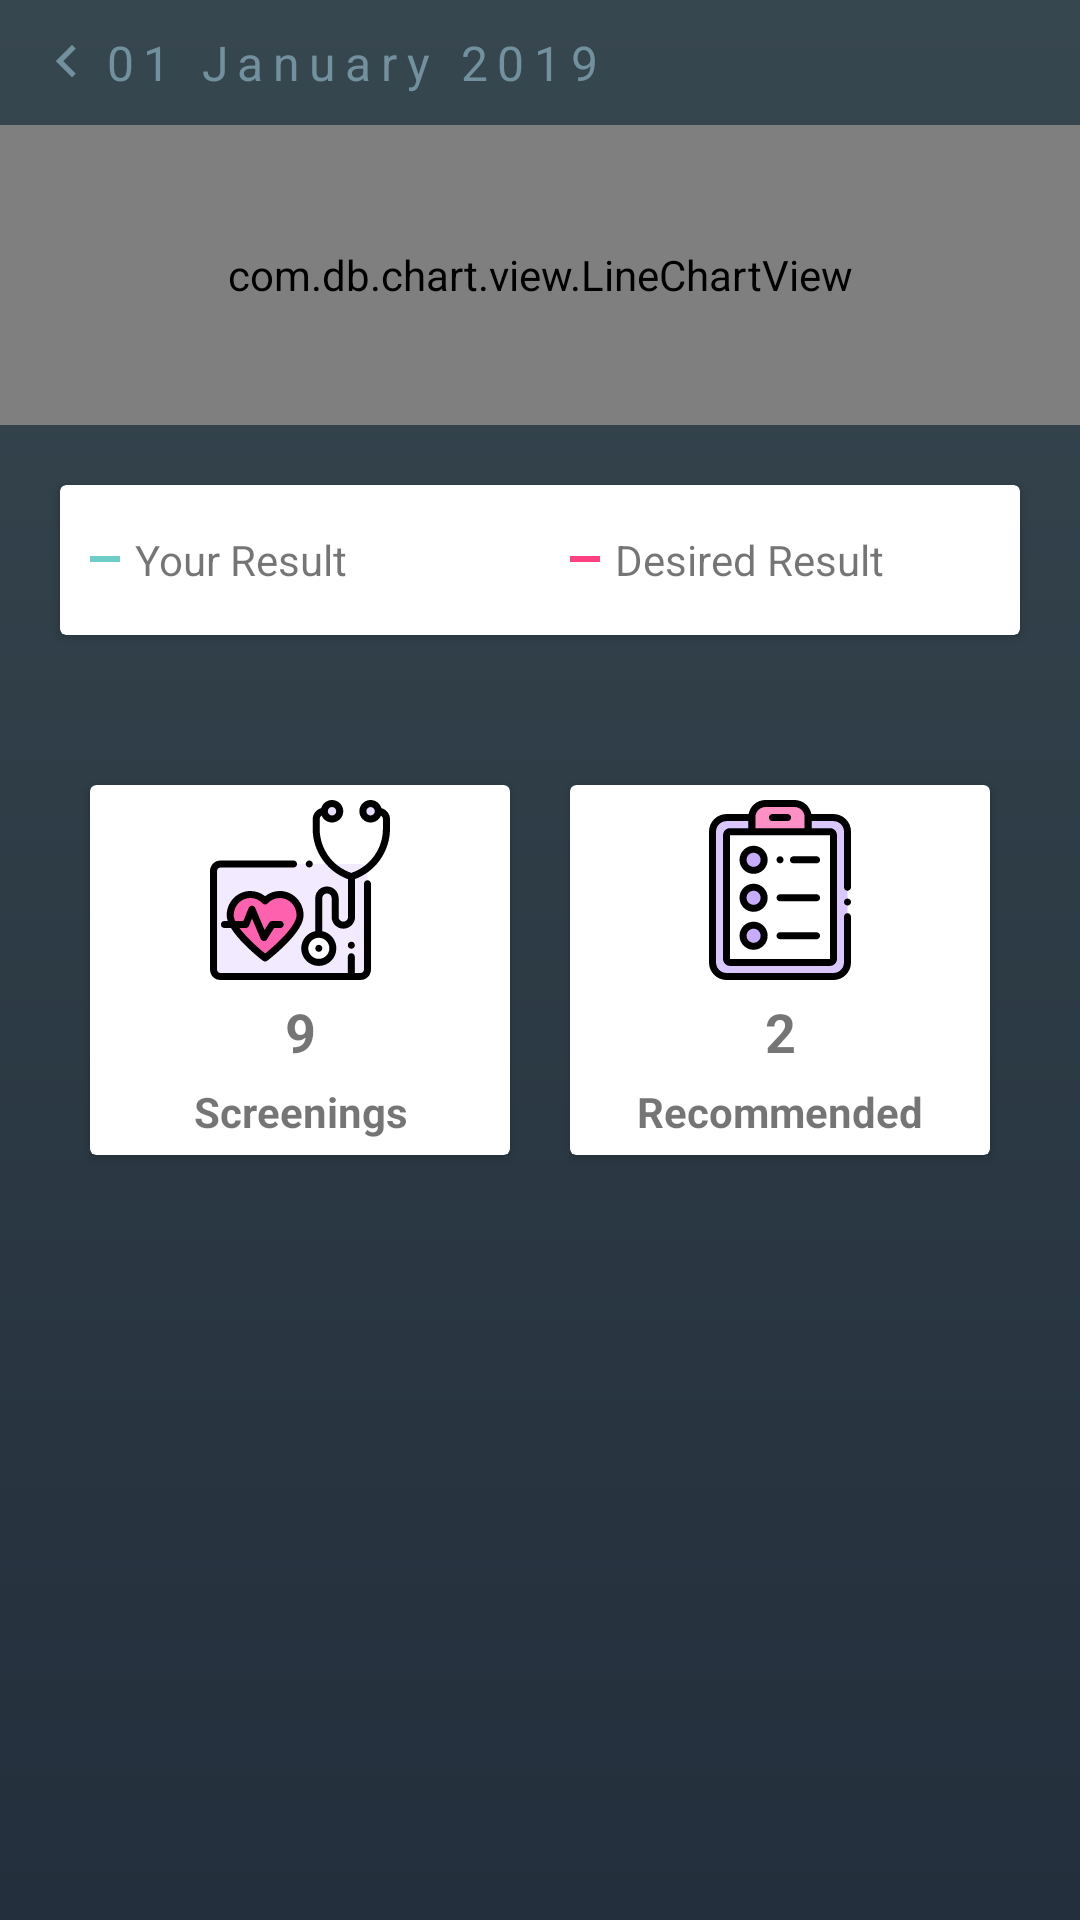

Named icons in this screenshot (1080px x 1920px) and their bounding boxes, (x1, y1, x2, y2):
arrow left: (56, 45, 76, 77)
